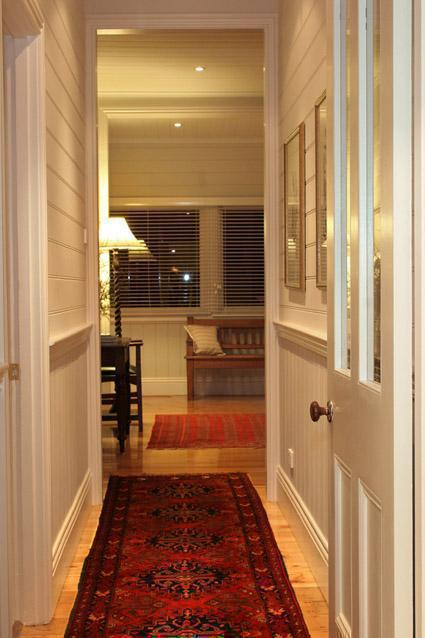Ventana: (117, 203, 266, 310)
